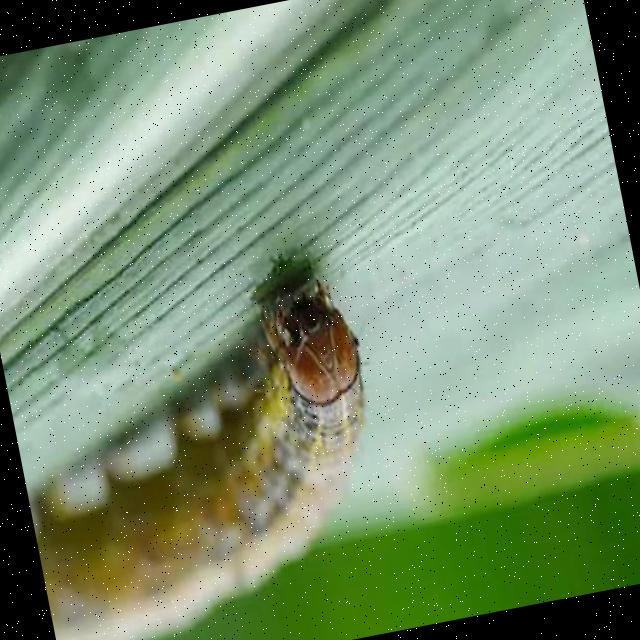worm: (1, 260, 415, 640)
